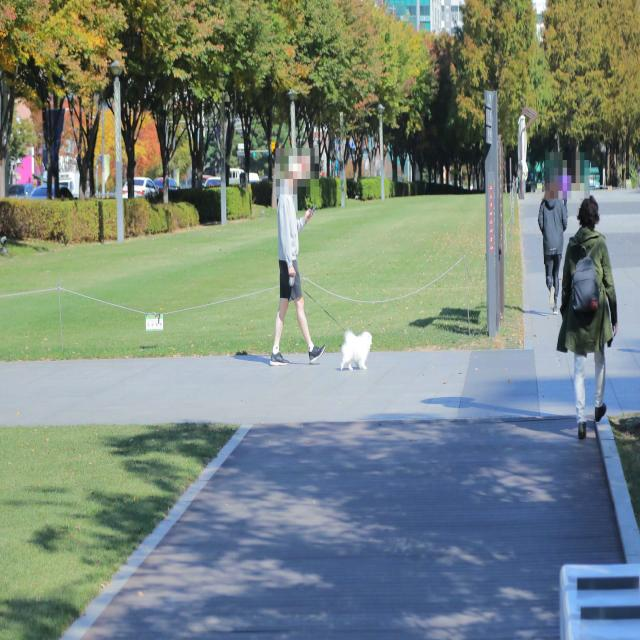Leashed_Dog: (292, 280, 374, 374)
